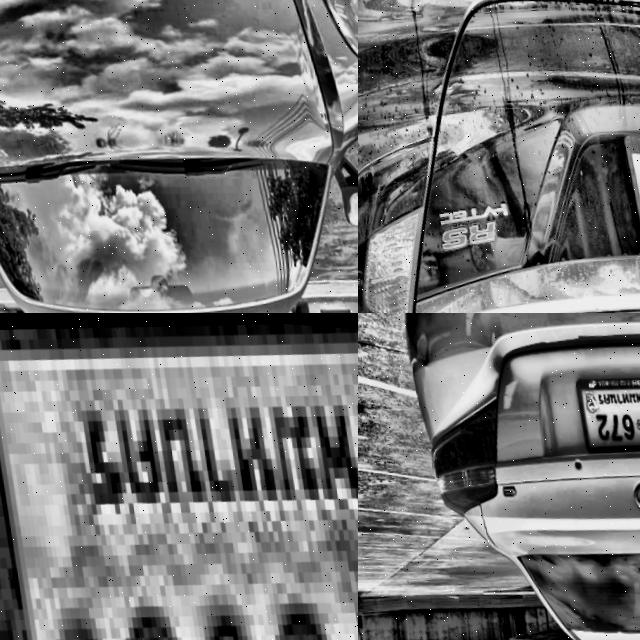license-plate: (0, 313, 358, 640), (569, 362, 640, 459)
